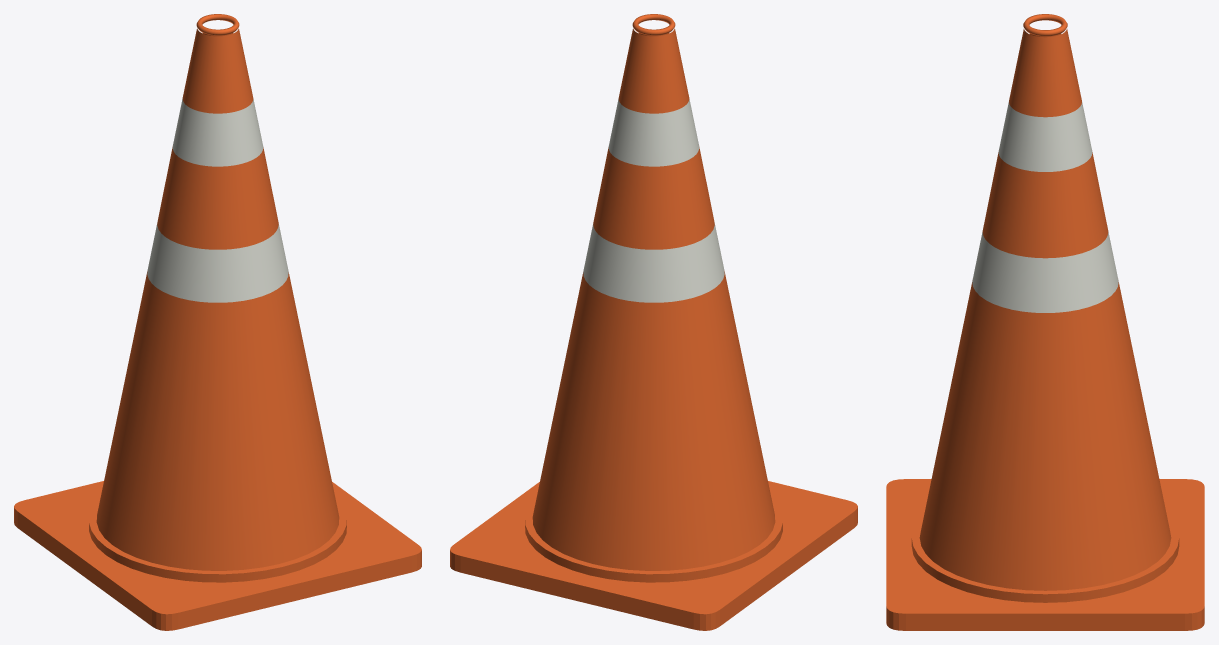
The model's file is cone-approved-v1.glb.
3 renders of one model, left to right at view 1: azimuth 30°, elevation 25°; view 2: azimuth 150°, elevation 25°; view 3: azimuth 270°, elevation 25°, orthographic. The views are drawn at different scales.
Parts seen in each view (by area): view 1: 주황 안전 고깔 · 승인 사진; view 2: 주황 안전 고깔 · 승인 사진; view 3: 주황 안전 고깔 · 승인 사진.
Boxes of the visible parts, x1,y1,x2,y2 form: 주황 안전 고깔 · 승인 사진: (14, 14, 421, 630); 주황 안전 고깔 · 승인 사진: (450, 14, 857, 630); 주황 안전 고깔 · 승인 사진: (886, 14, 1204, 630).
Size of the model in its own units: 0.4 by 0.7495 by 0.4.
